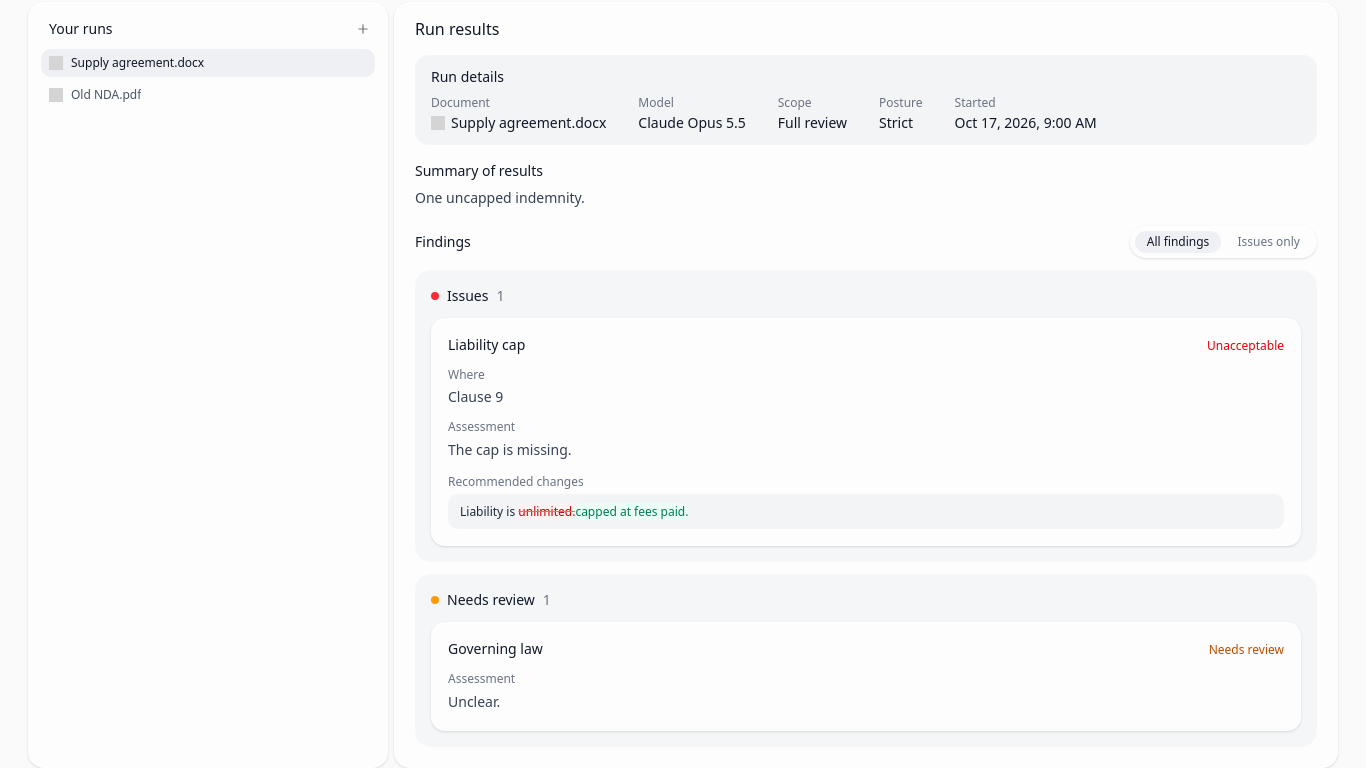
Test: playbook runs › lists past runs with their outcome and shows the selected run's findings
The width and height of the screenshot is (1366, 768).
Expected: the button "Supply agreement.docx" is shown, [41, 49, 375, 77]
Expected: the heading "Run results" is shown, [415, 18, 499, 40]
Click the button "Old NDA.pdf": x=106, y=94 [41, 81, 375, 109]
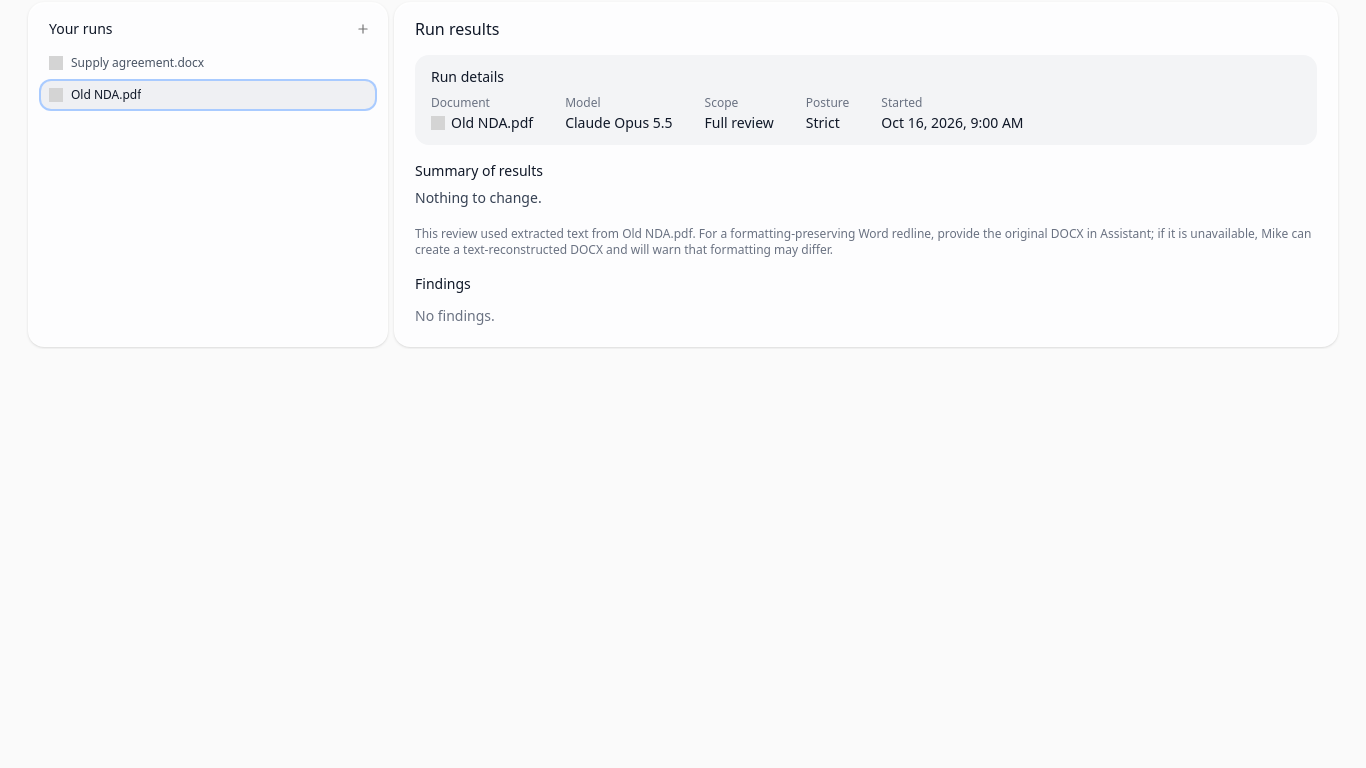
Expected: the text "Nothing to change." is shown, [415, 188, 542, 207]
Expected: the text "No findings." is shown, [415, 306, 495, 325]
